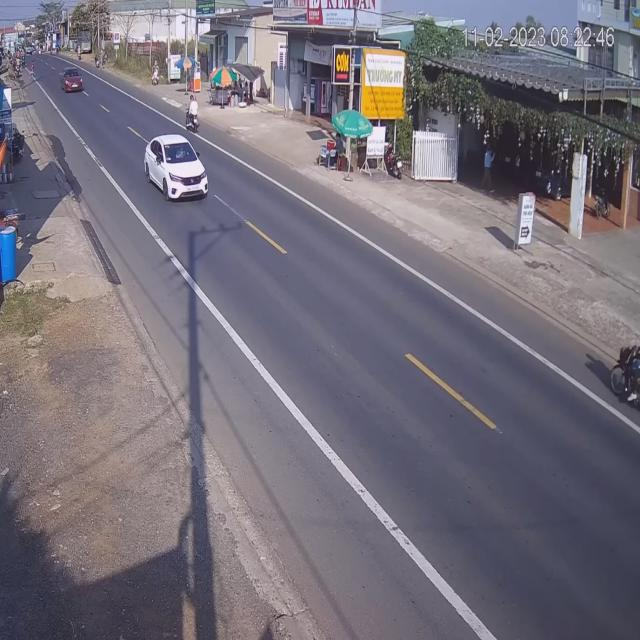car: (147, 130, 210, 202), (62, 65, 84, 95)
motorbike: (609, 326, 640, 414), (186, 96, 199, 132)
